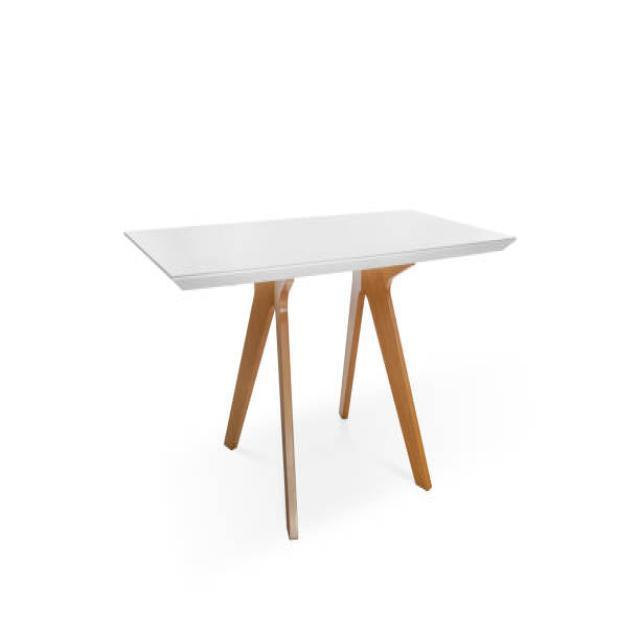table: (122, 207, 516, 540)
